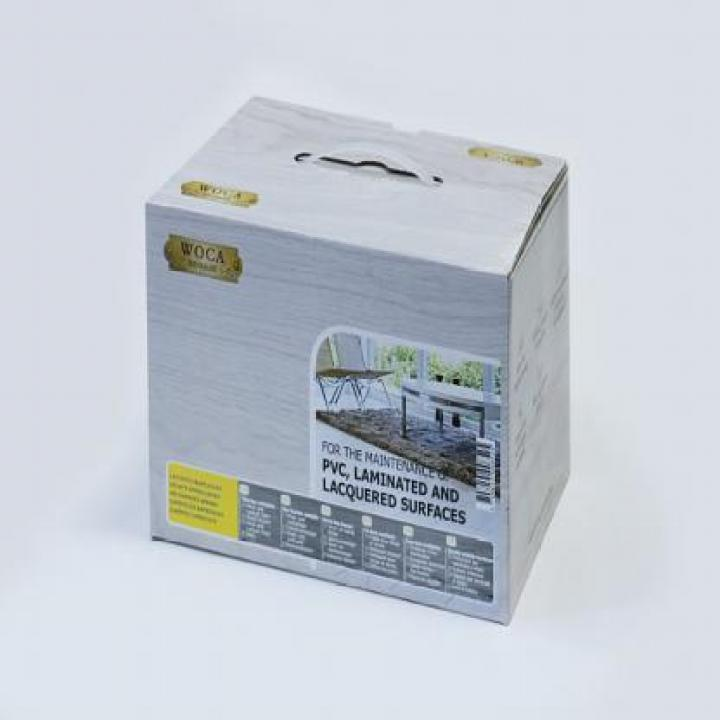box: (138, 73, 587, 642)
